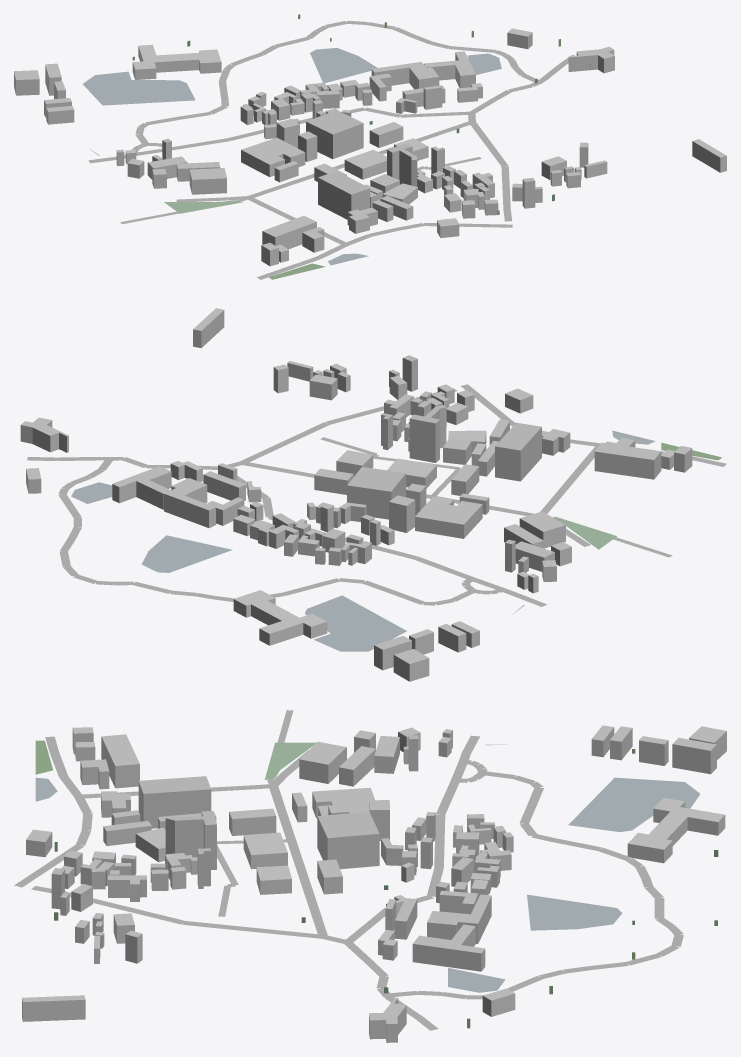
The picture shows the model from 3 angles, top to bottom: view 1: azimuth 30°, elevation 25°; view 2: azimuth 150°, elevation 25°; view 3: azimuth 270°, elevation 25°; orthographic projection. The views are drawn at different scales.
Size of the model in its own units: 578 by 41.02 by 519.
